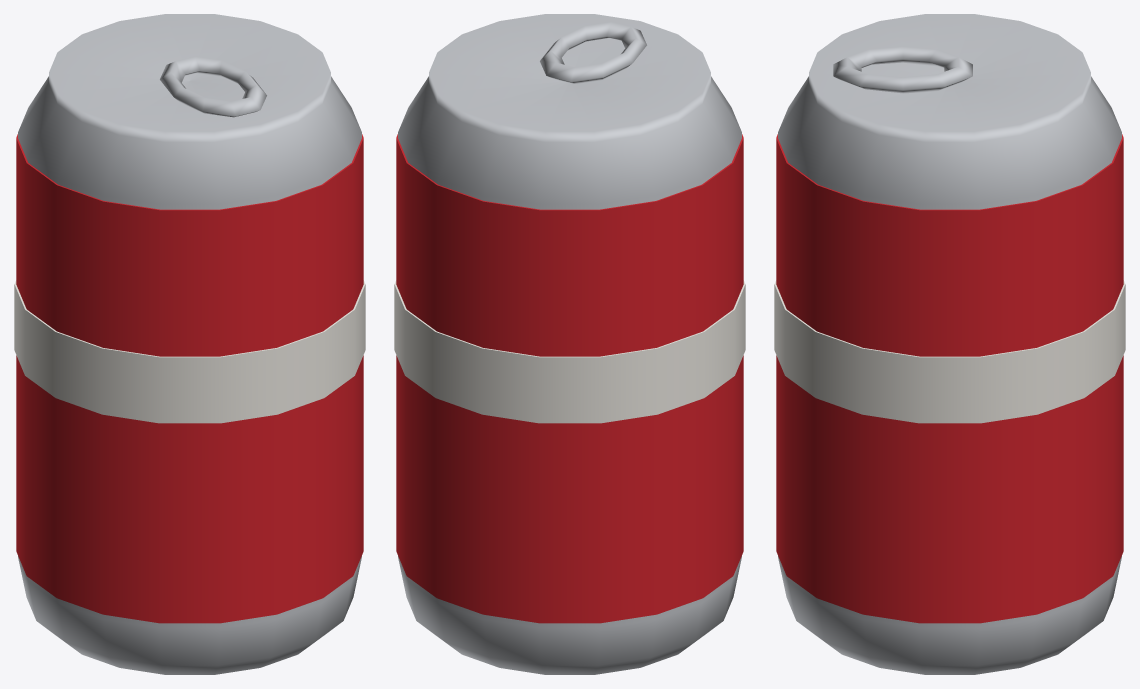
The model's file is soda_can.glb.
3 renders of one model, left to right at view 1: azimuth 30°, elevation 25°; view 2: azimuth 150°, elevation 25°; view 3: azimuth 270°, elevation 25°, orthographic.
Visible parts, largest first — view 1: soda_can; view 2: soda_can; view 3: soda_can.
Part boxes in pixels (box(x1,y1,x2,y2)): soda_can: box(14, 14, 365, 674); soda_can: box(394, 14, 745, 674); soda_can: box(774, 14, 1125, 674).
Size of the model in its own units: 6.63 by 11.73 by 6.73.
